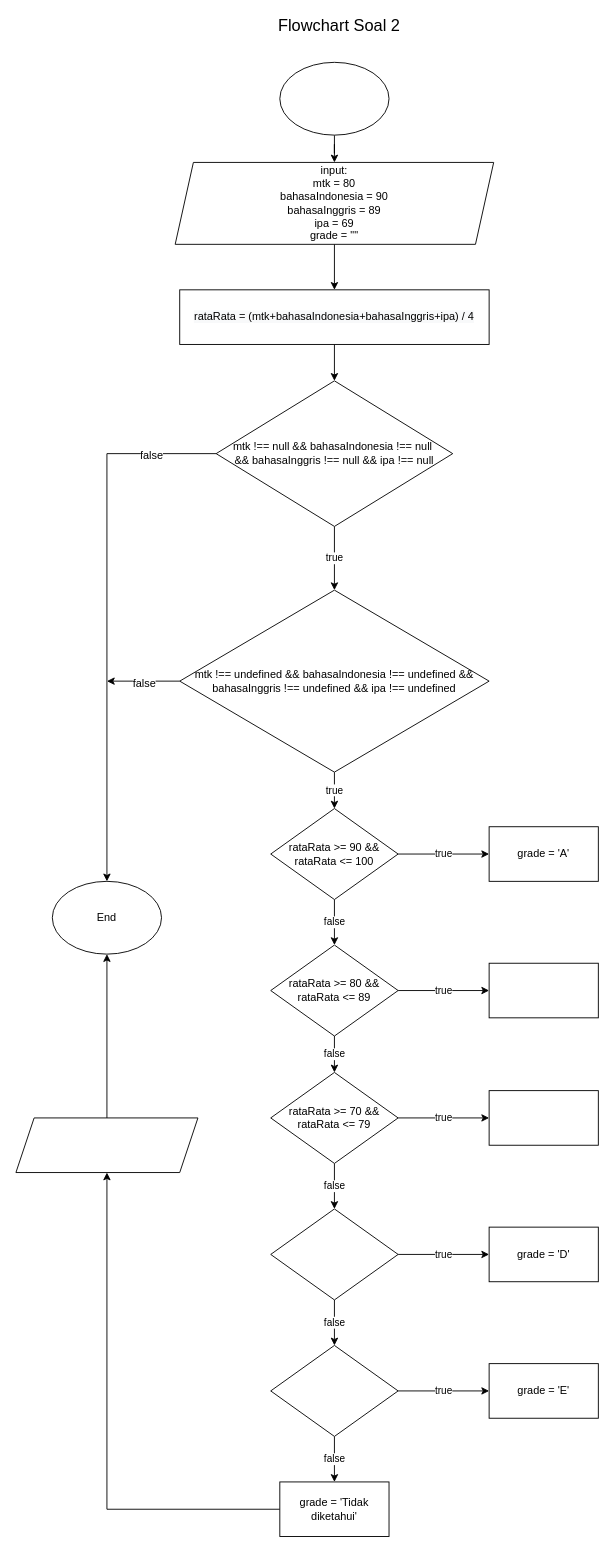
The diagram is 614 pixels wide and 1552 high, and some of its shapes have lost their labels. Here are the shapes that lost their labels. From the top down, the centre of each, then its label:
the point at 334,98: Start
the point at 543,990: grade = 'B'
the point at 543,1117: grade = 'C'
the point at 106,1145: Print: "Rata rata: " + rataRata "Grade: " + grade
the point at 334,1254: rataRata >= 60 && rataRata <= 69
the point at 334,1390: rataRata >= 0 && rataRata <= 59
